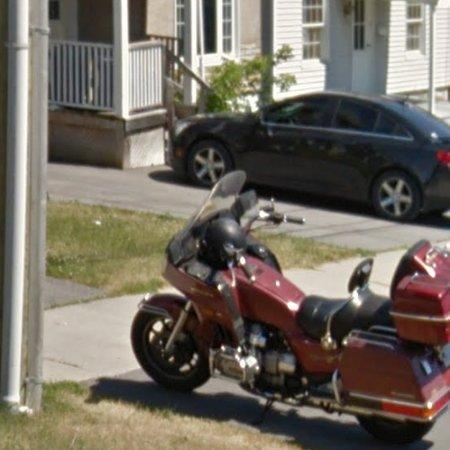motorcycles: (130, 171, 448, 450)
